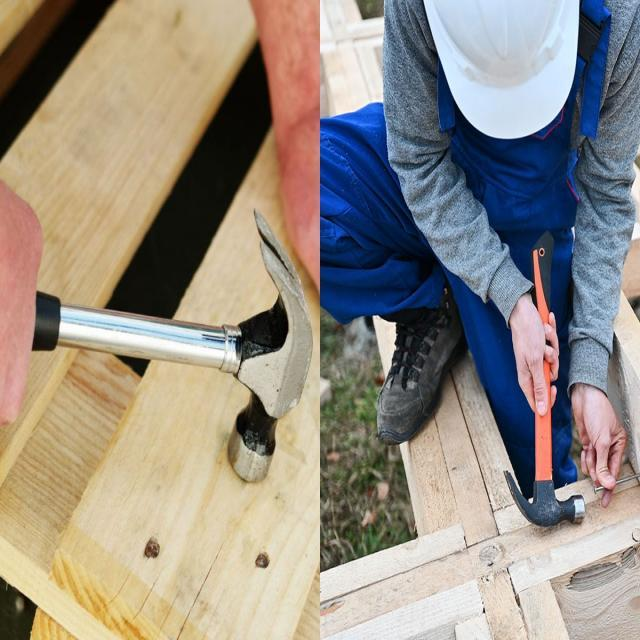hammer: (27, 203, 316, 490), (500, 227, 588, 531)
